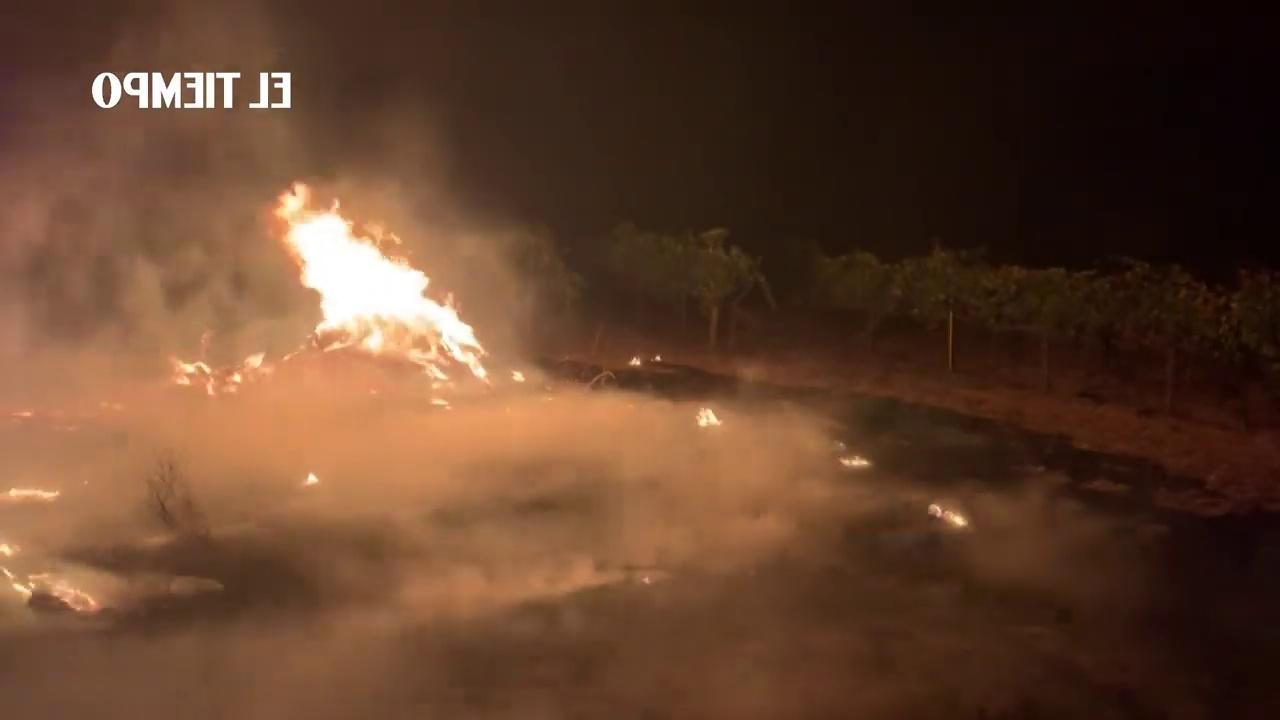Fire: (278, 183, 494, 401), (4, 543, 103, 610), (168, 346, 265, 395), (11, 481, 65, 500), (926, 504, 968, 528), (697, 405, 726, 430), (837, 455, 874, 471), (302, 469, 318, 491), (510, 370, 530, 384), (629, 351, 643, 366)
